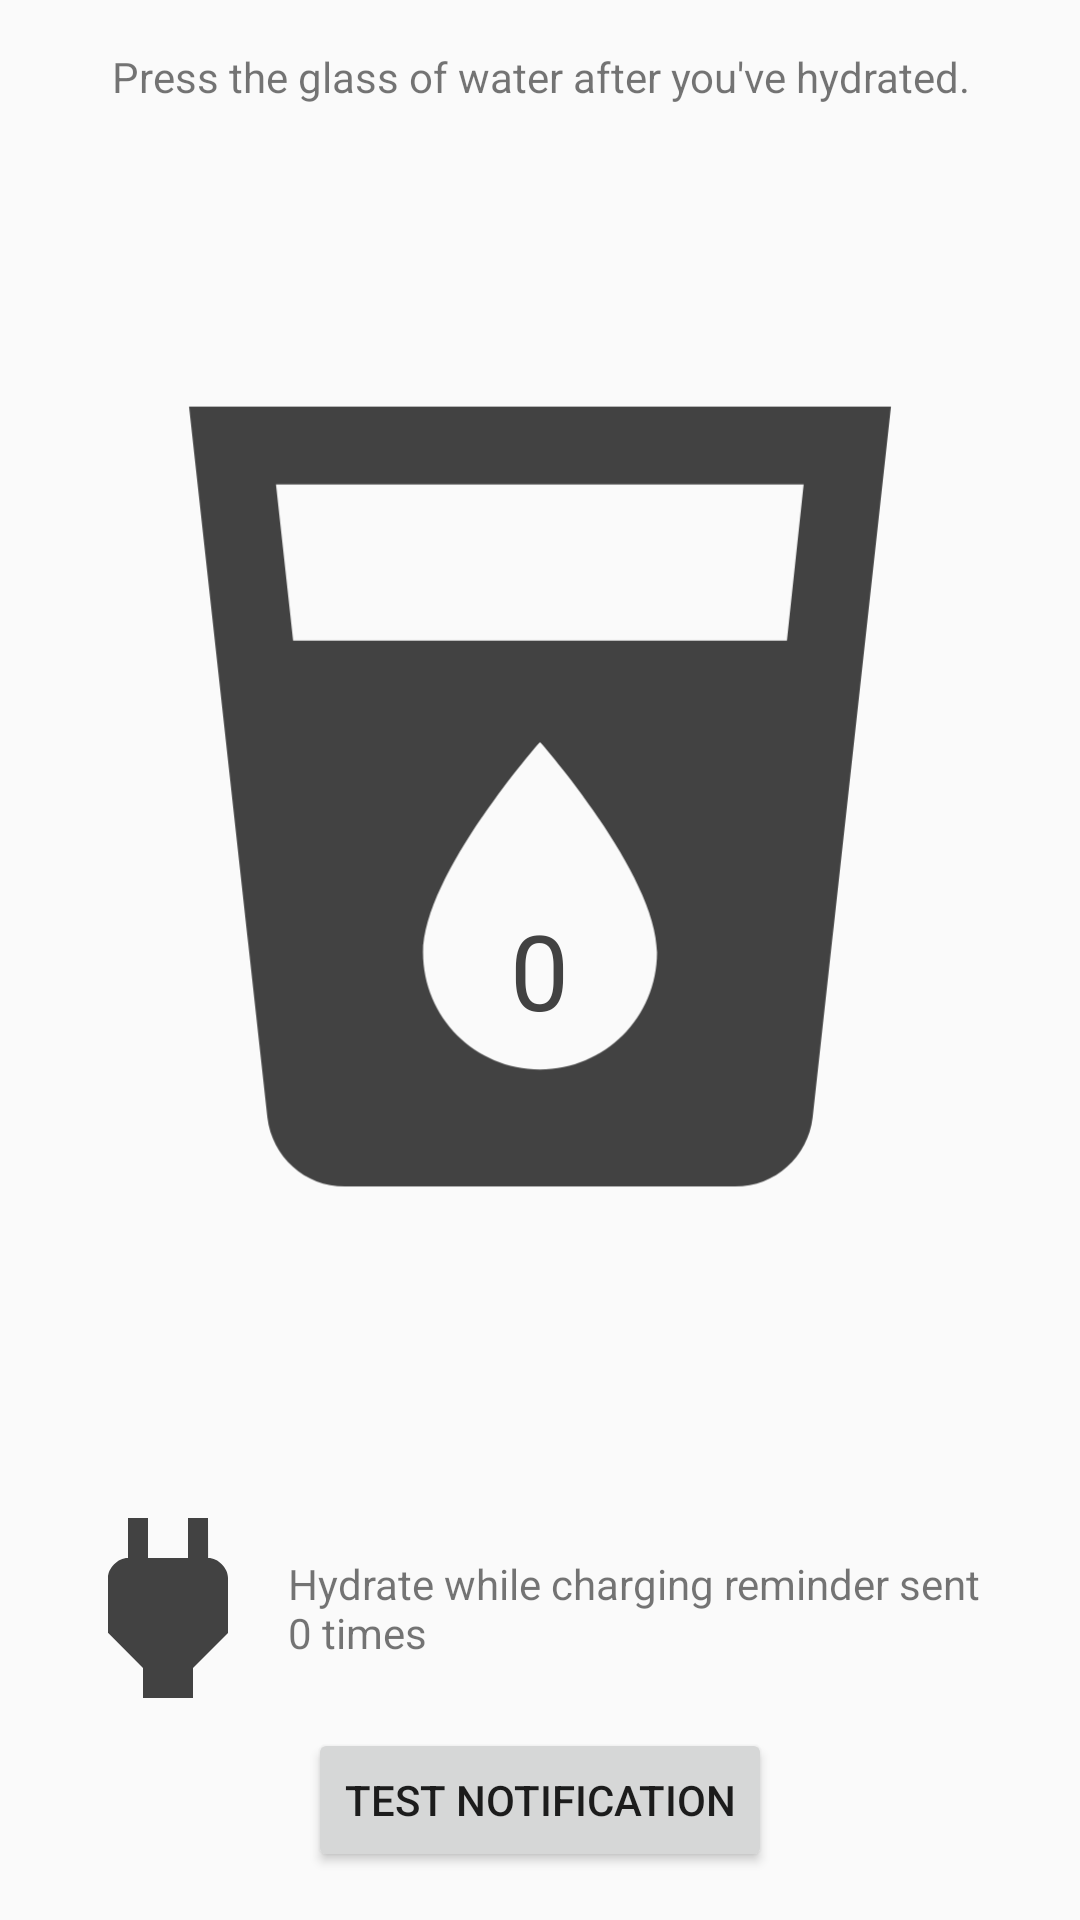

Icons on this 1080w x 1920h Android screen, each with its box as Rect(x1, y1, x2, y2):
charging plug image: Rect(108, 1518, 228, 1698)
